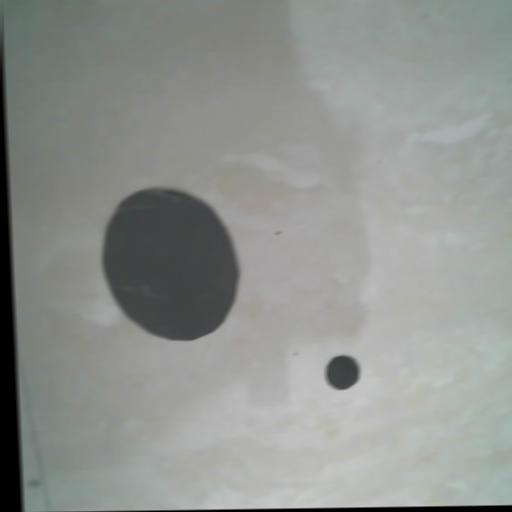pothole: (97, 185, 243, 343), (324, 354, 361, 390)
